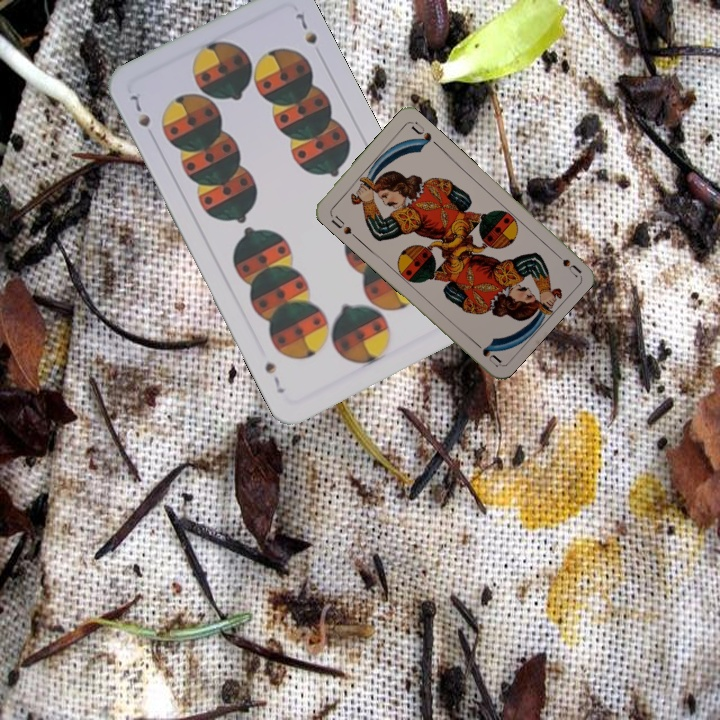S7: (126, 90, 153, 130)
SU: (548, 246, 583, 280), (326, 210, 360, 241)
